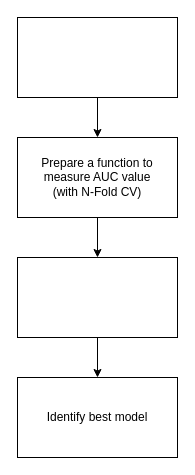
This 195x475 diagram has some shape labels left out. The shapes that lost their labels are listed below. From the top down, each one's centre as x and y in pixels, then its label:
point 97,57: Process Data
point 97,297: Integrate function into Optuna, to fine-tune hyperparameters of models
